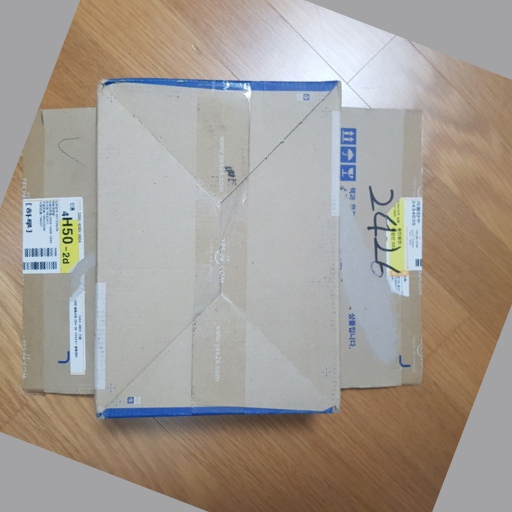Paper_0: (19, 74, 431, 418)
